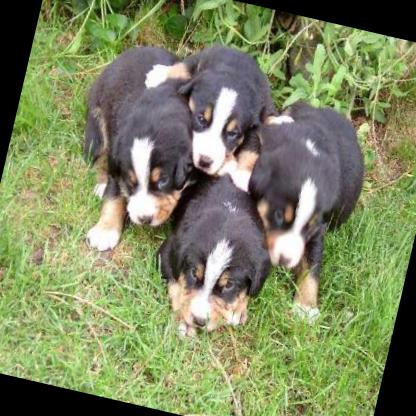EntleBucher: (47, 29, 230, 270), (220, 90, 381, 331), (139, 160, 290, 352), (124, 27, 288, 190)
